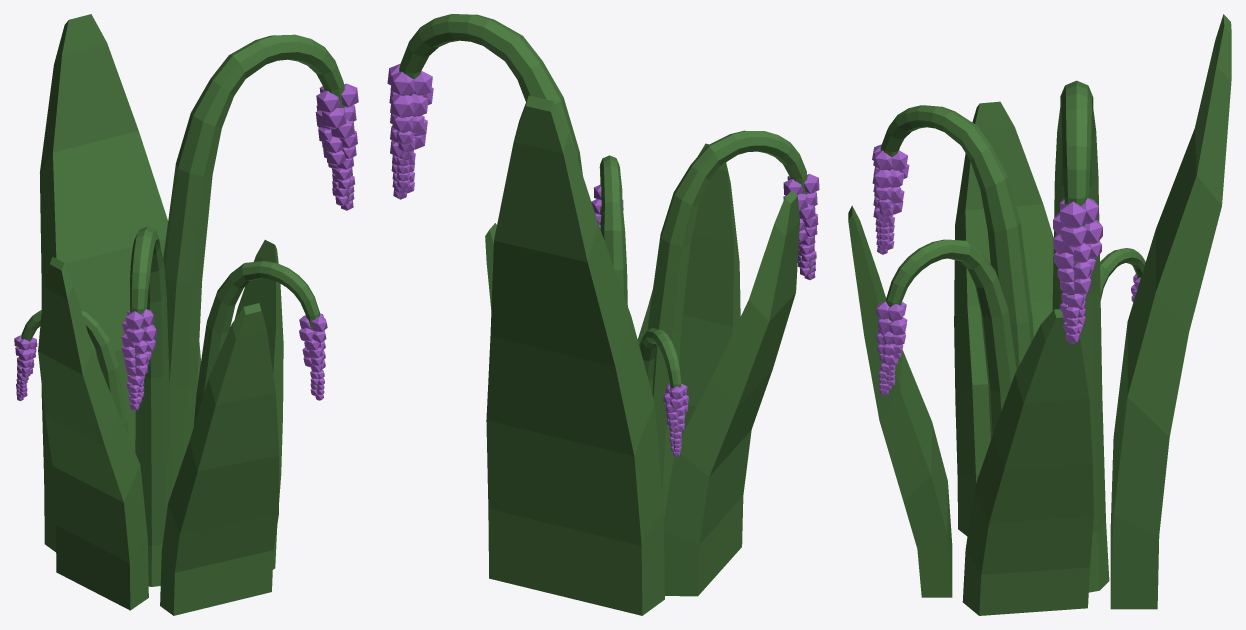
Rendered from Flower2.glb.
3 views of the same model, side by side, from view 1: azimuth 30°, elevation 25°; view 2: azimuth 150°, elevation 25°; view 3: azimuth 270°, elevation 25° (orthographic). The views are drawn at different scales.
Visible parts, largest first — view 1: Flower2.001; view 2: Flower2.001; view 3: Flower2.001.
Part boxes in pixels (<box>): Flower2.001: <box>14,14,358,615</box>; Flower2.001: <box>387,14,819,615</box>; Flower2.001: <box>848,14,1231,615</box>.
Bounding box in the file's own units: 0.3051 × 0.4194 × 0.2656.
